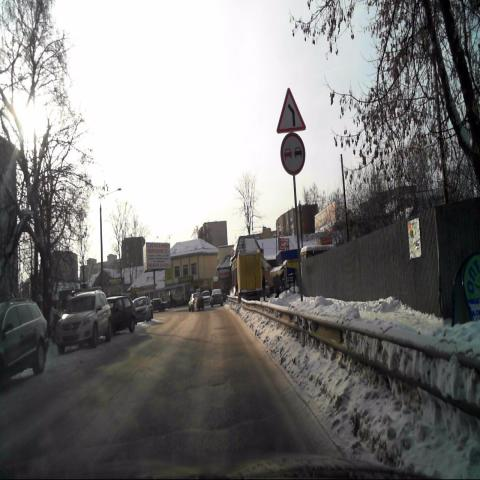1_11_1: (276, 88, 305, 133)
